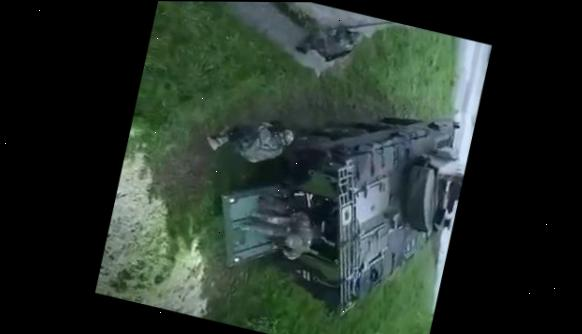person: (231, 193, 321, 264), (204, 105, 298, 169)
tank: (193, 66, 478, 334)
